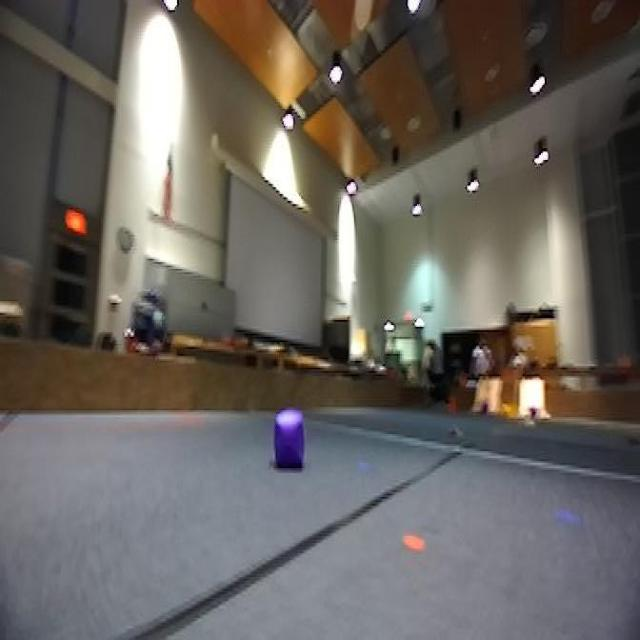frc_cube: (272, 412, 308, 473)
